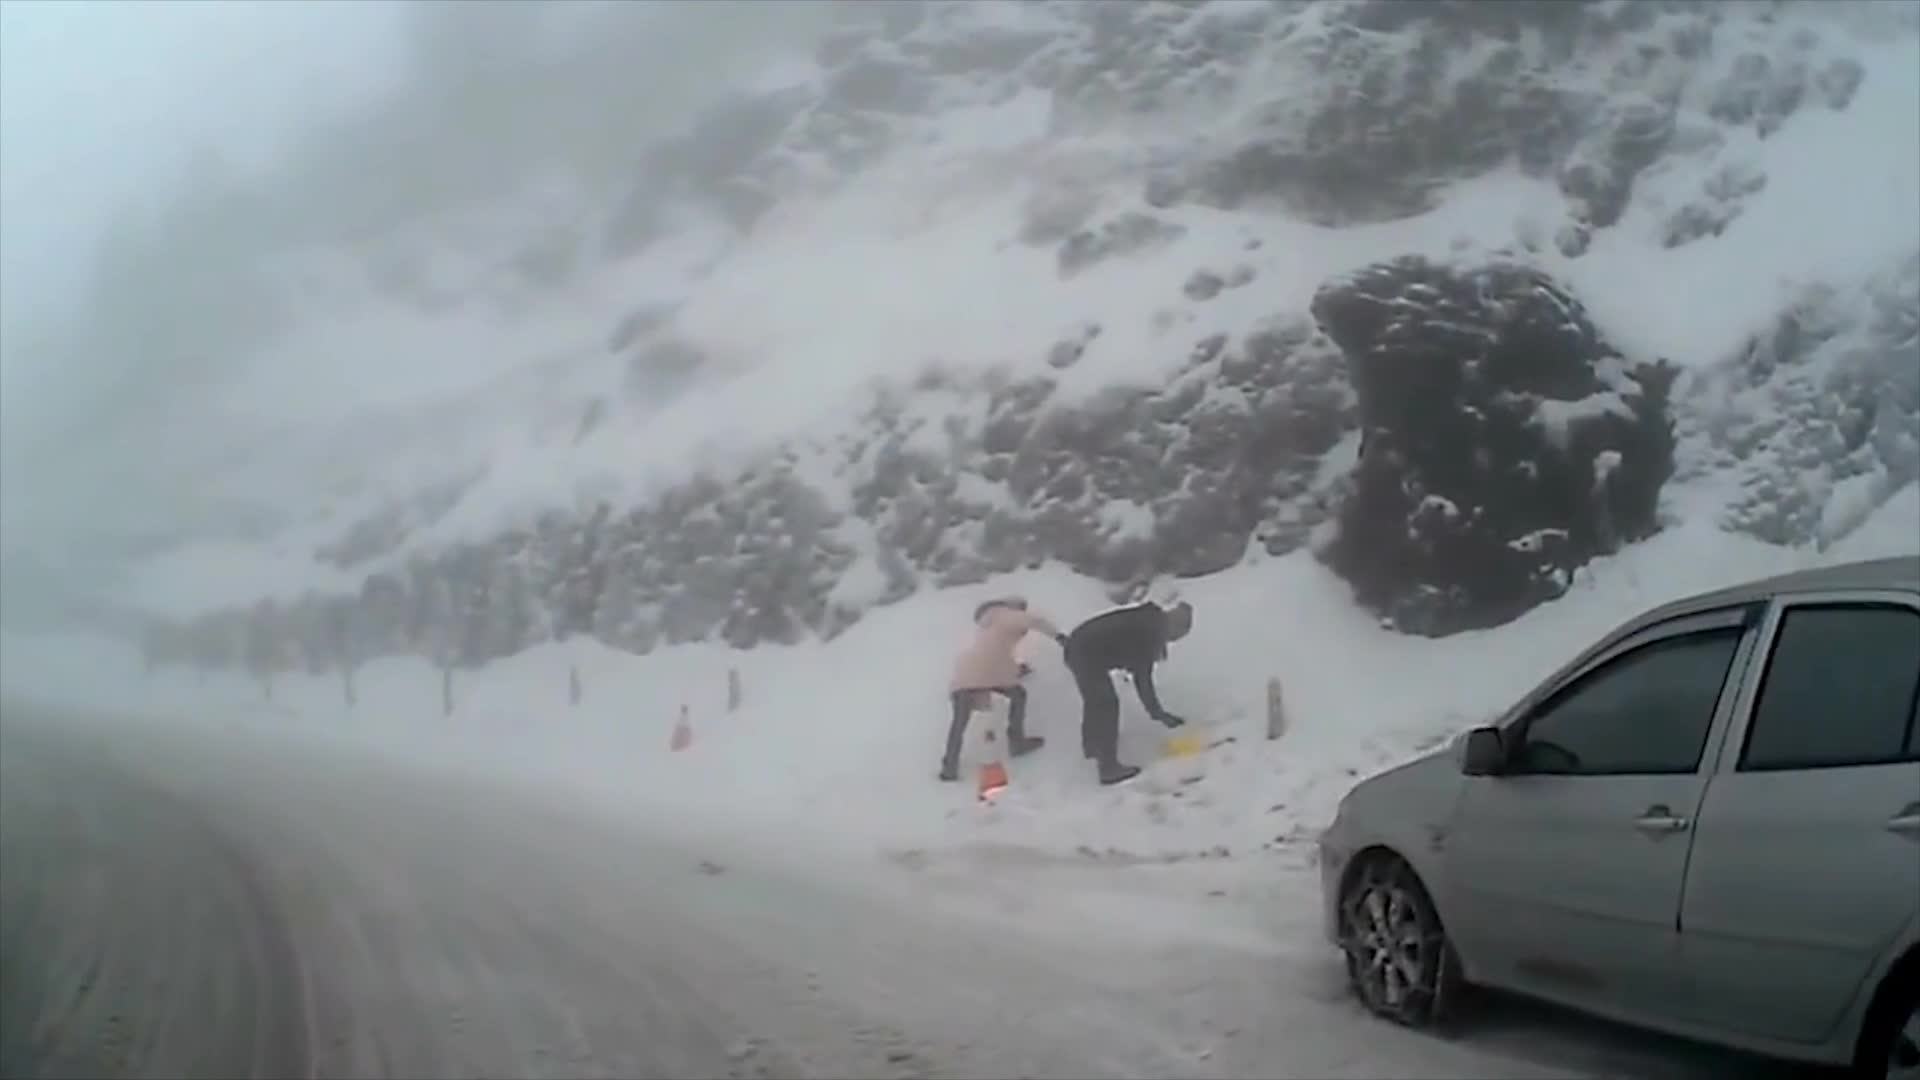pedestrian: (935, 587, 1066, 782), (1061, 602, 1192, 787)
vehicle: (1316, 552, 1920, 1080)
